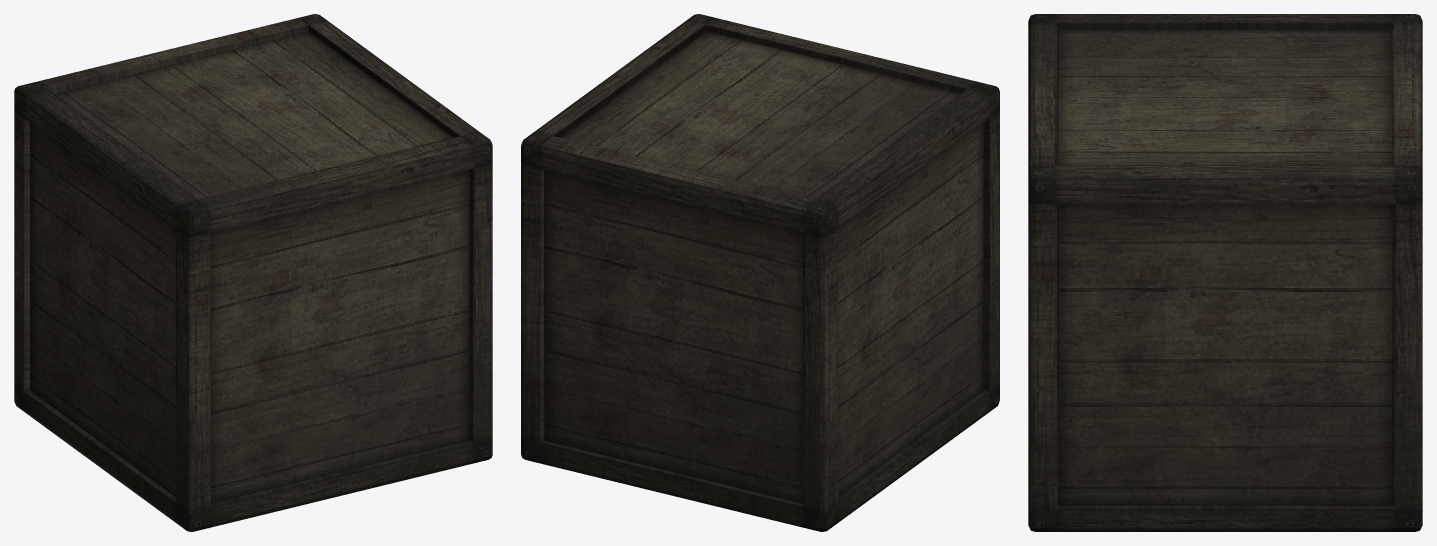
The model's file is wooden_crate_8.glb.
3 views of the same model, side by side, from view 1: azimuth 30°, elevation 25°; view 2: azimuth 150°, elevation 25°; view 3: azimuth 270°, elevation 25° (orthographic). The views are drawn at different scales.
Visible parts, largest first — view 1: wooden_crate_8; view 2: wooden_crate_8; view 3: wooden_crate_8.
Boxes of the visible parts, left/top/right/bottom form: wooden_crate_8: left=14, top=14, right=492, bottom=531; wooden_crate_8: left=521, top=14, right=999, bottom=531; wooden_crate_8: left=1028, top=14, right=1422, bottom=531.
Bounding box in the file's own units: 1.1 × 1.1 × 1.1.
1 material, 1 textured.
